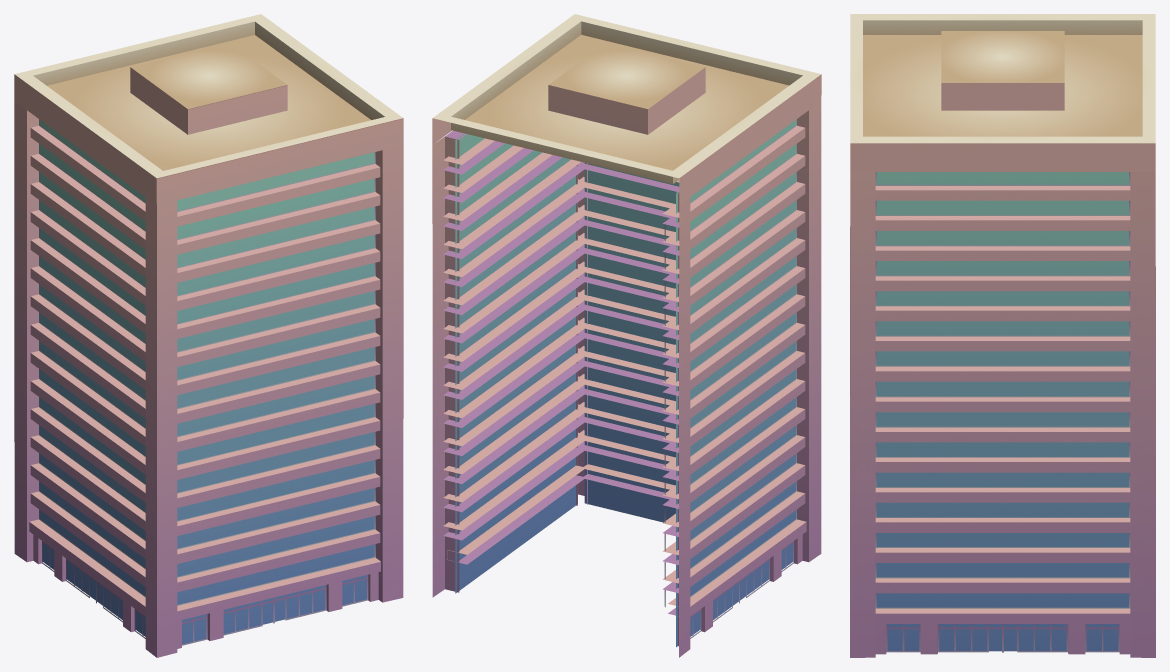
3 renders of one model, left to right at view 1: azimuth 30°, elevation 25°; view 2: azimuth 150°, elevation 25°; view 3: azimuth 270°, elevation 25°, orthographic. The views are drawn at different scales.
Visible parts, largest first — view 1: SM_16F_01; view 2: SM_16F_01; view 3: SM_16F_01.
Part boxes in pixels (left/top/right/bottom): SM_16F_01: left=14, top=14, right=403, bottom=657; SM_16F_01: left=432, top=14, right=821, bottom=657; SM_16F_01: left=850, top=14, right=1155, bottom=657.
Bounding box in the file's own units: 28.54 × 55.25 × 28.54.
